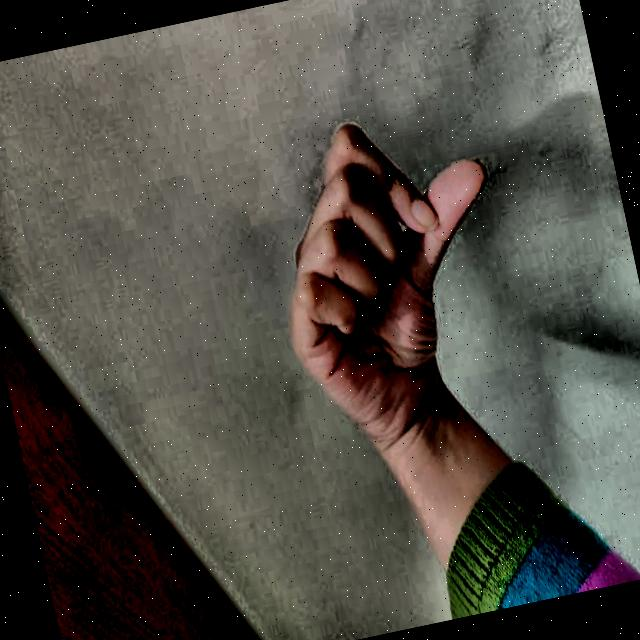Ay: (222, 70, 560, 484)
